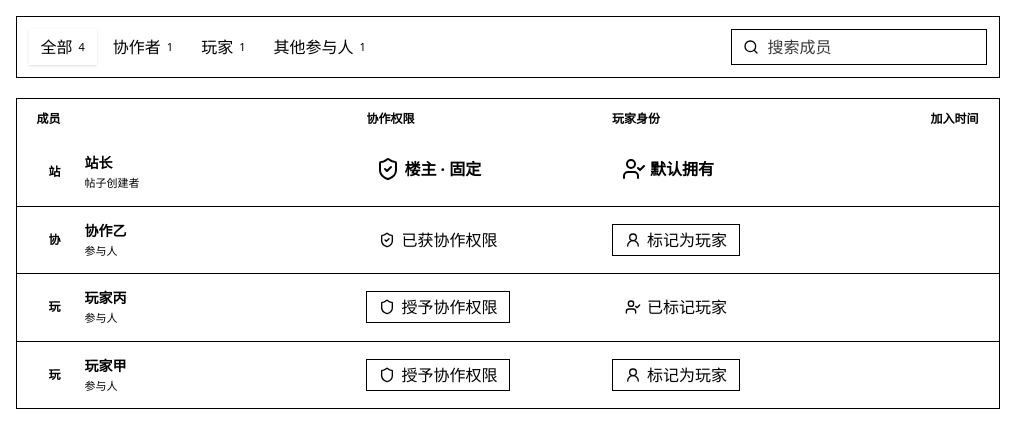
Test: MemberManager › 搜索与角色筛选在本地组合生效并显示数量
This screenshot has width=1017, height=426.
Expected: the button "协作者 1" is shown, [101,29,185,65]
Expected: the button "其他参与人 1" is shown, [261,29,378,65]
Click the button "玩家 1" at coordinates (223, 47), box [189,29,257,65]
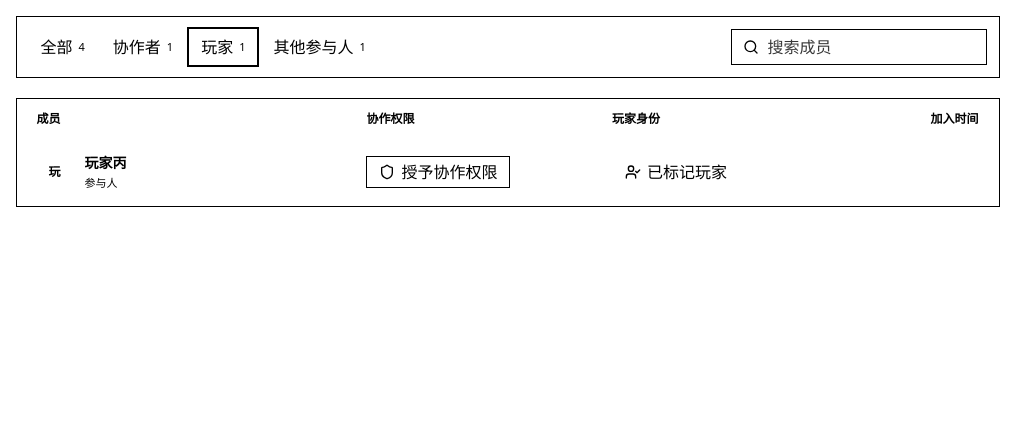
Expected: the row "玩 玩家丙 参与人 授予协作权限 已标记玩家" is shown, [16,139,998,206]
Now the link "玩家甲" is gone
Click the button "全部 4" at coordinates (63, 47), box [28,29,97,65]
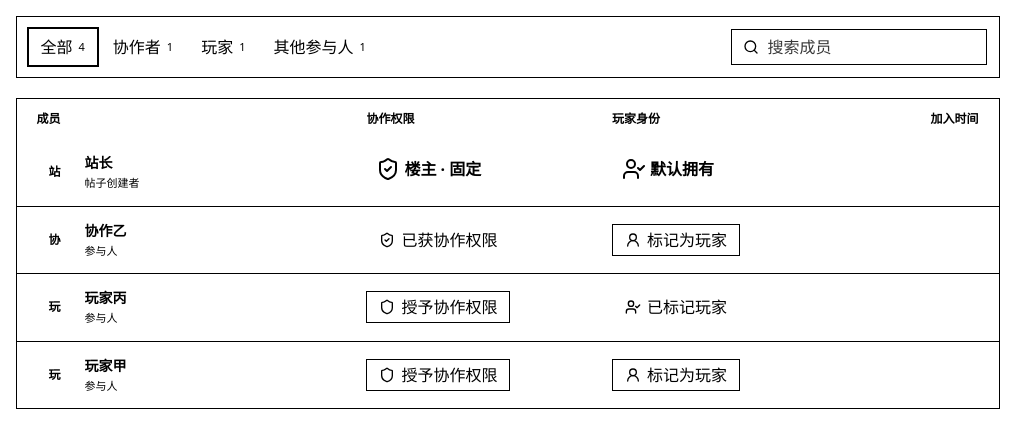
Type "协作" into the field labelled "搜索成员" at coordinates (858, 47), box [730,29,986,65]
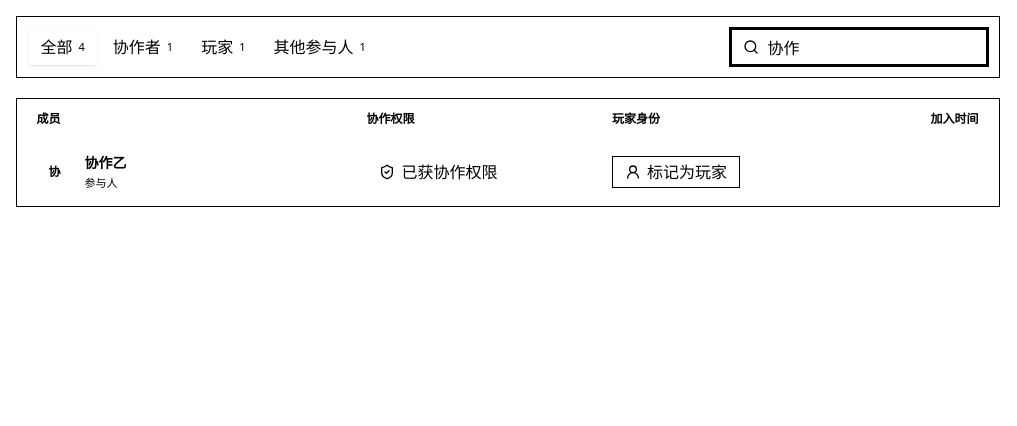
Now the row "协 协作乙 参与人 已获协作权限 标记为玩家" is shown, box [16,139,998,206]
Now the link "玩家丙" is gone
